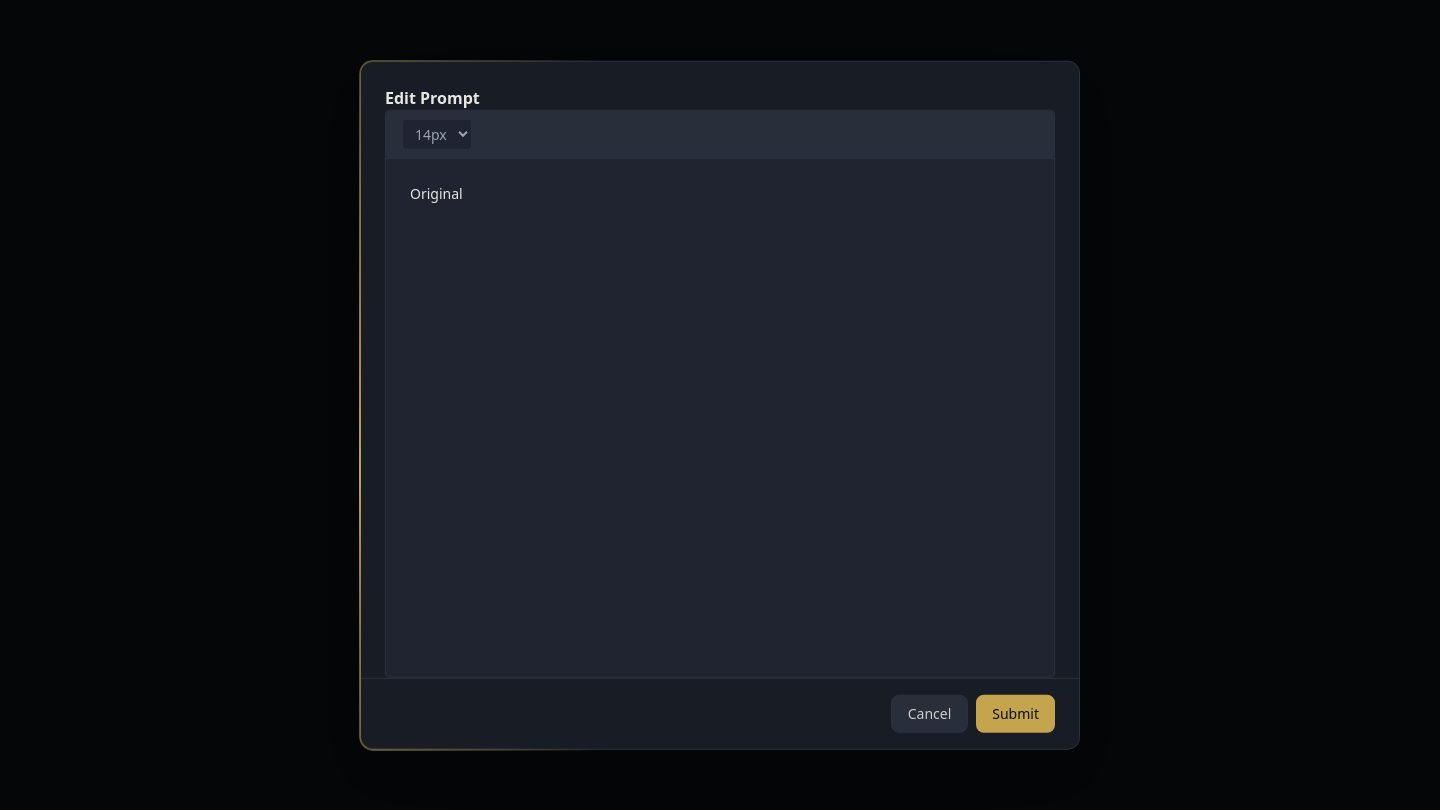
Test: PromptEditorModal › Unsaved Changes Confirmation Dialog › should show Discard and Submit buttons in confirmation dialog
Replace the text in the text box with placeholder "Describe what to generate..." with "Changed" at (720, 418), box [386, 159, 1054, 676]
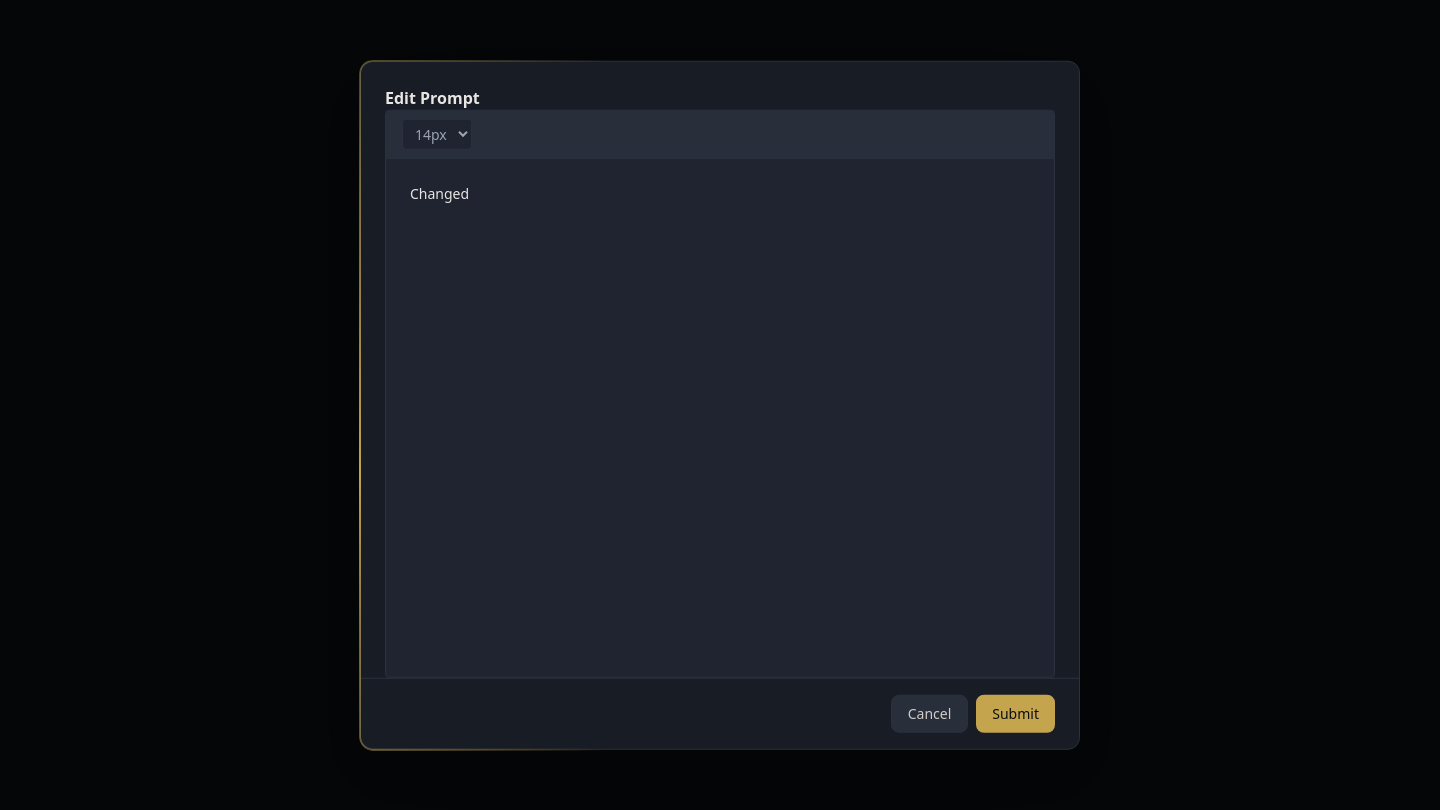
Click the button "Cancel".
click(930, 713)  # box [891, 694, 968, 732]
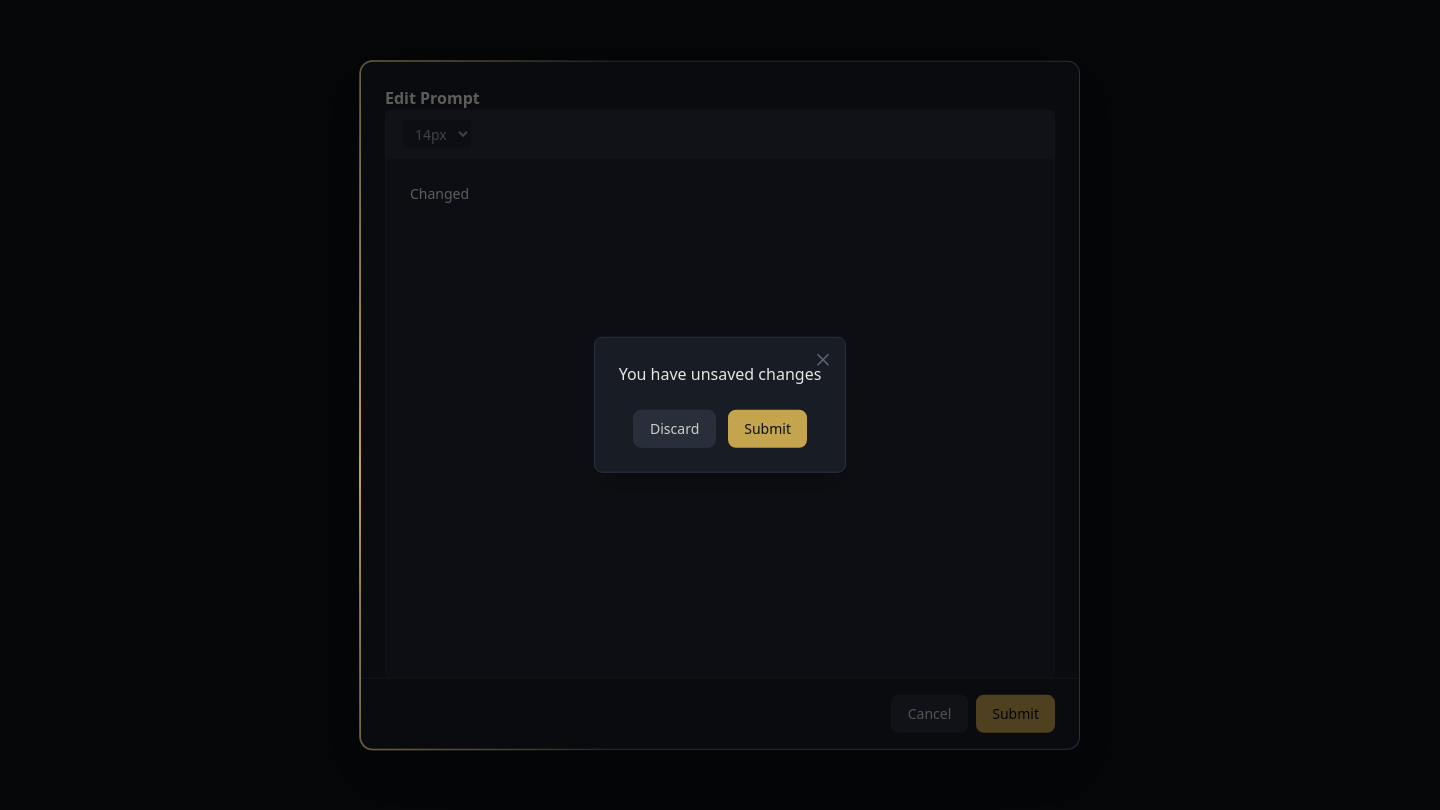
Check: the text "You have unsaved changes" is shown, box [619, 362, 821, 386]
Check: the button "Discard" is shown, box [633, 410, 716, 448]
Check: the number of buttons "Submit" is 2, box [976, 694, 1055, 732]; [728, 410, 807, 448]
